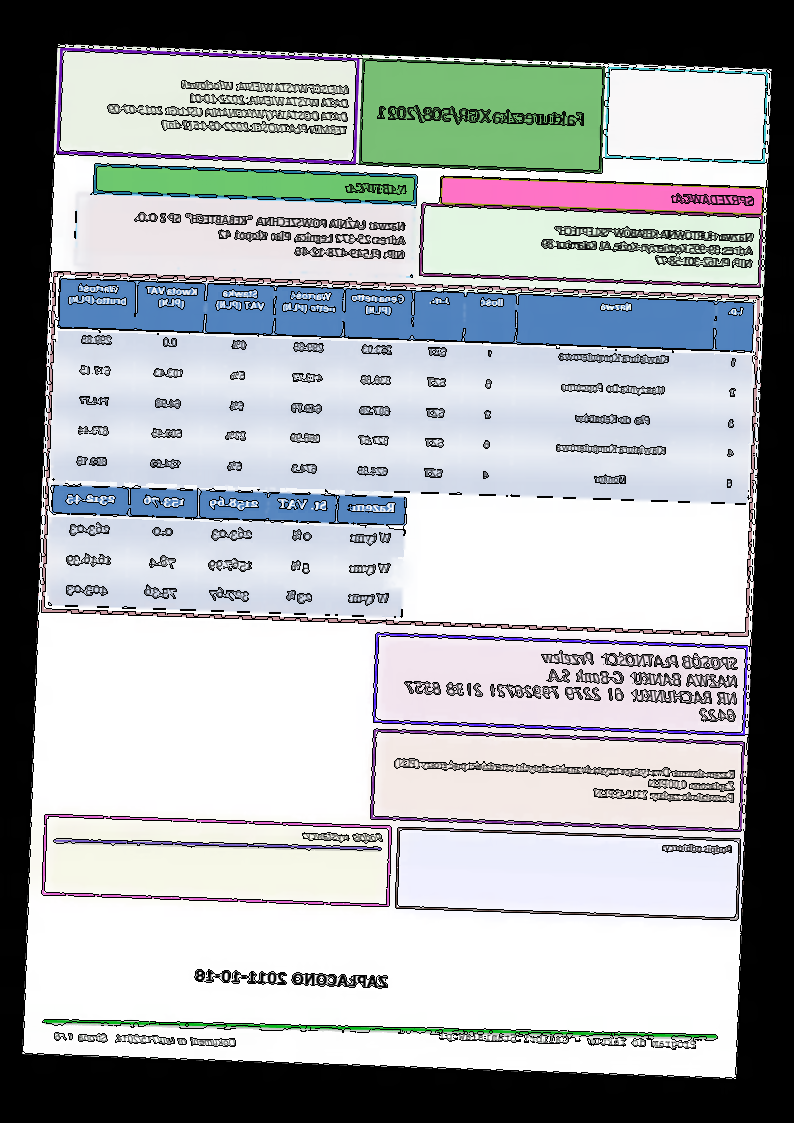Table: (53, 276, 757, 505), (50, 482, 409, 620)
TextBox: (399, 640, 741, 730), (388, 754, 740, 810), (104, 73, 354, 142), (128, 206, 409, 266), (536, 221, 759, 273), (376, 99, 591, 133), (436, 1026, 700, 1053), (190, 962, 395, 994), (51, 1025, 241, 1052), (301, 824, 387, 851), (670, 189, 760, 211), (660, 839, 738, 860), (345, 177, 412, 198)
